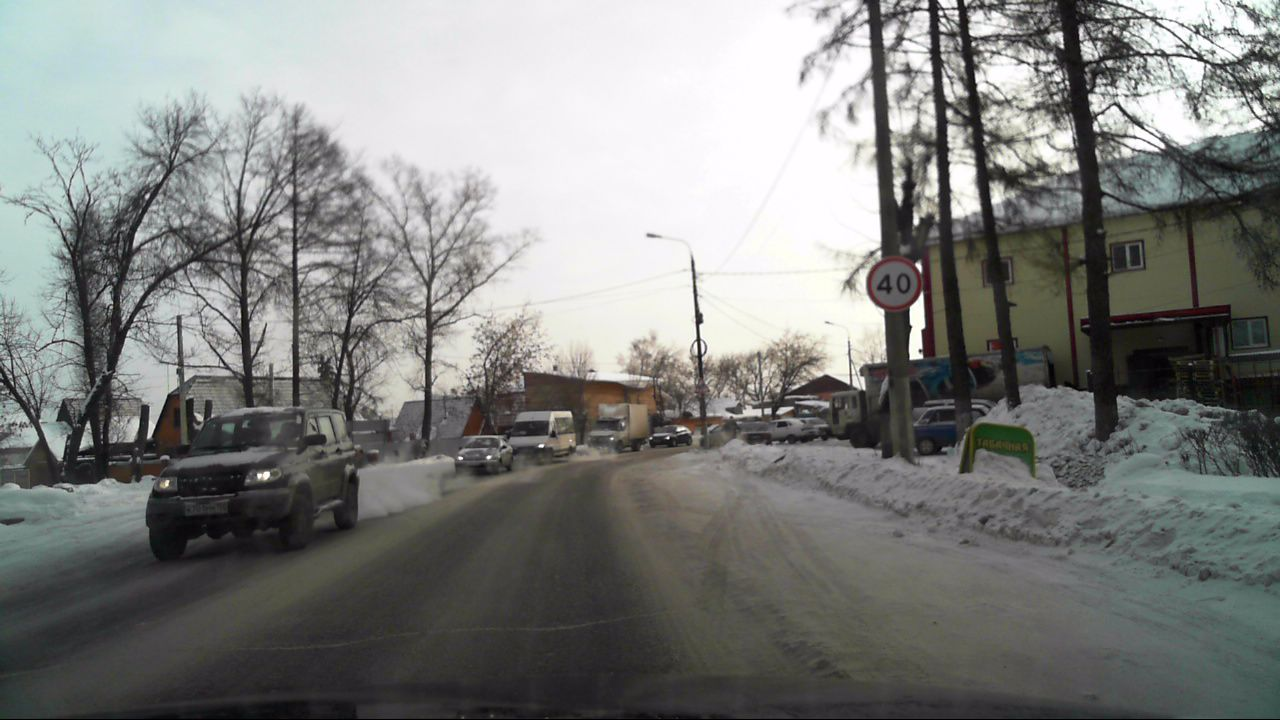speed_warning_40: (867, 257, 921, 312)
